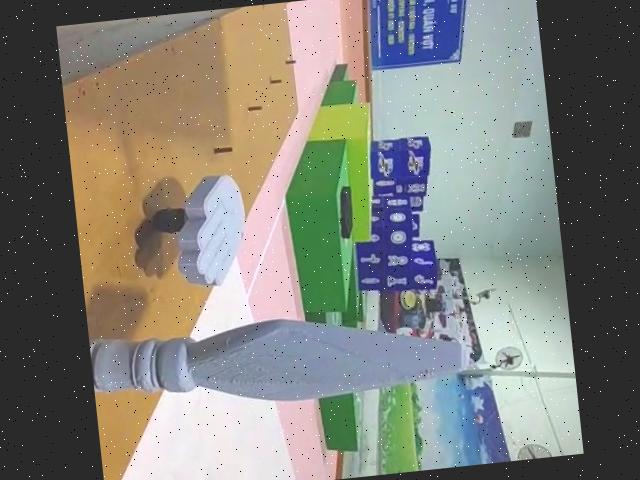Hand: (146, 173, 254, 291)
Sph: (89, 298, 470, 425)
